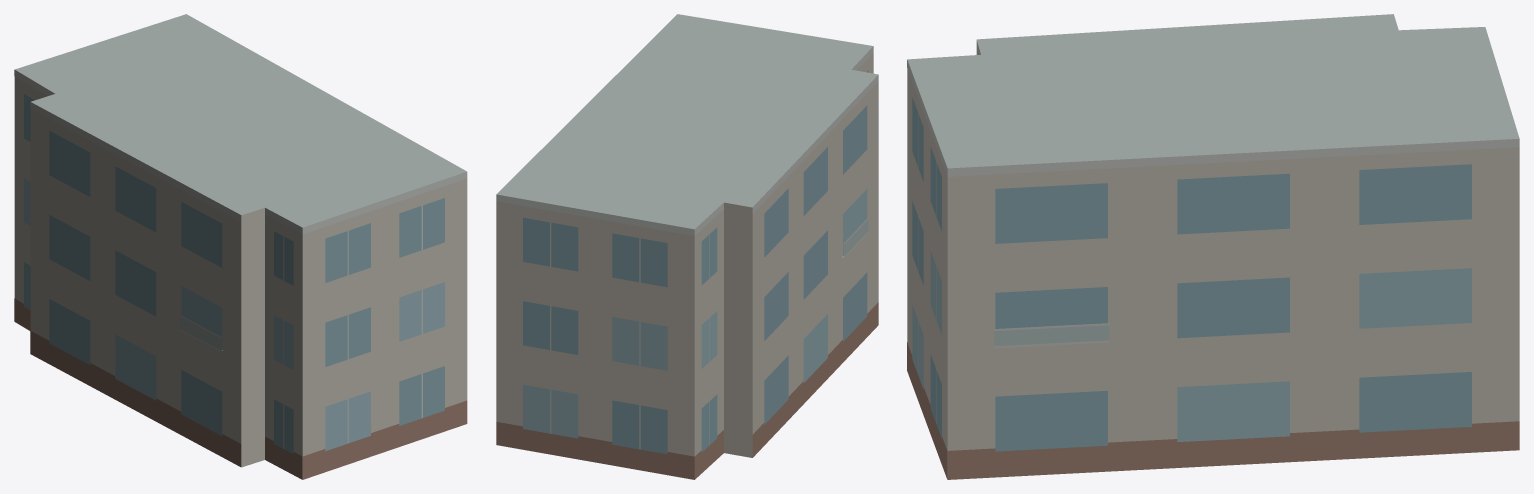
File: survey-upis-32708406.glb
3 views of the same model, side by side, from view 1: azimuth 30°, elevation 25°; view 2: azimuth 150°, elevation 25°; view 3: azimuth 270°, elevation 25° (orthographic). The views are drawn at different scales.
Visible parts, largest first — view 1: survey-upis-32708406.tmp; view 2: survey-upis-32708406.tmp; view 3: survey-upis-32708406.tmp.
Boxes of the visible parts, x1,y1,x2,y2 form: survey-upis-32708406.tmp: (14,14,467,479); survey-upis-32708406.tmp: (496,14,878,479); survey-upis-32708406.tmp: (907,14,1519,479).
Bounding box in the file's own units: 9.74 × 9.15 × 16.32.
